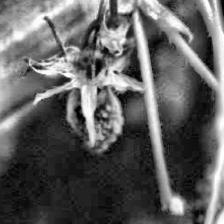Gray Mold: (22, 17, 147, 155)
